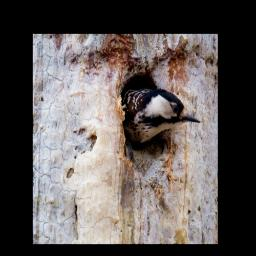Woodpecker: (123, 83, 200, 146)
